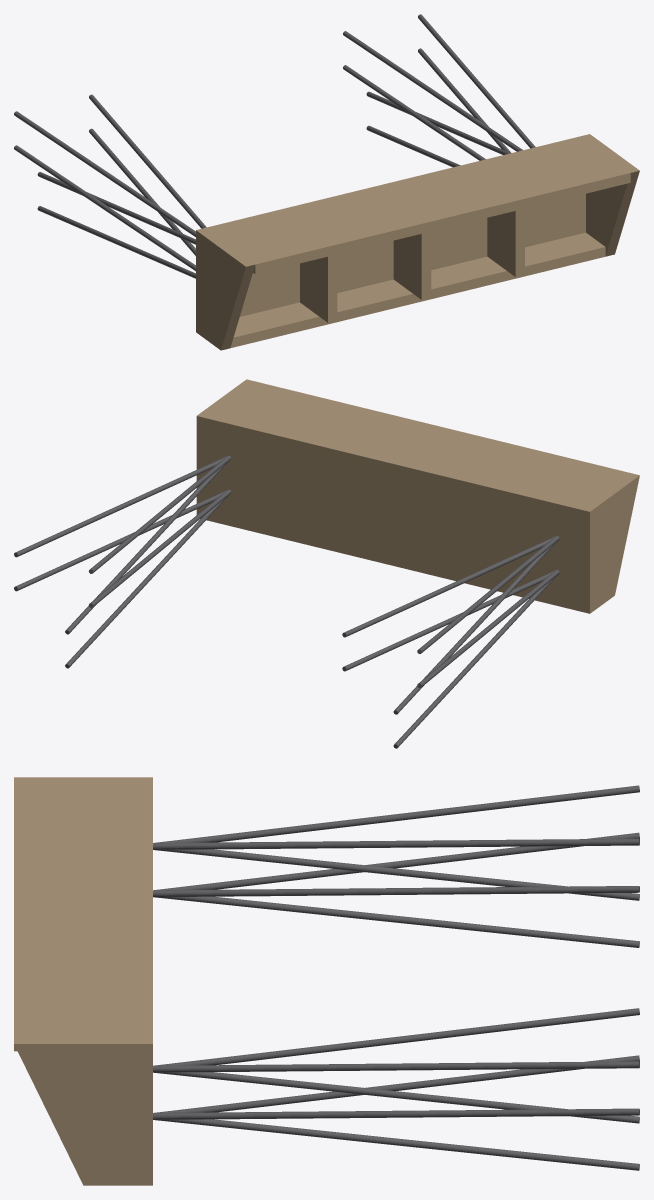
Rendered from vinyl_record_storage.glb.
The picture shows the model from 3 angles, top to bottom: view 1: azimuth 30°, elevation 25°; view 2: azimuth 150°, elevation 25°; view 3: azimuth 270°, elevation 25°; orthographic projection. The views are drawn at different scales.
Parts seen in each view (by area): view 1: back, bottom, front, side_left, leg_back_left, side_right, leg_front_left, leg_back_right, divider_2, divider_1, divider_3, leg_front_right; view 2: bottom, back, side_left, leg_back_left, leg_back_right, leg_front_left, leg_front_right, side_right; view 3: back, side_right, leg_back_right, leg_back_left, leg_front_left, leg_front_right, bottom, side_left.
Boxes of the visible parts, box(x1,y1,x2,y2) form: back: box(211, 140, 630, 274); bottom: box(205, 136, 585, 316); front: box(230, 232, 605, 348); side_left: box(196, 228, 255, 350); leg_back_left: box(14, 94, 206, 244); side_right: box(581, 134, 639, 256); leg_front_left: box(14, 128, 195, 278); leg_back_right: box(343, 14, 535, 154); divider_2: box(393, 231, 431, 299); divider_1: box(300, 254, 337, 322); divider_3: box(487, 208, 524, 276); leg_front_right: box(343, 48, 510, 167); bottom: box(206, 414, 585, 611); back: box(211, 381, 629, 505); side_left: box(580, 473, 639, 613); leg_back_left: box(342, 535, 559, 714); leg_back_right: box(14, 455, 231, 634); leg_front_left: box(342, 569, 559, 748); leg_front_right: box(14, 489, 231, 668); side_right: box(196, 379, 255, 518); back: box(14, 783, 137, 1051); side_right: box(14, 1037, 152, 1185); leg_back_right: box(153, 1008, 639, 1123); leg_back_left: box(153, 785, 639, 900); leg_front_left: box(153, 832, 639, 947); leg_front_right: box(153, 1055, 639, 1170); bottom: box(138, 783, 152, 1037); side_left: box(14, 777, 152, 783).
Bounding box in the file's own units: 37.66 × 10 × 36.03.
